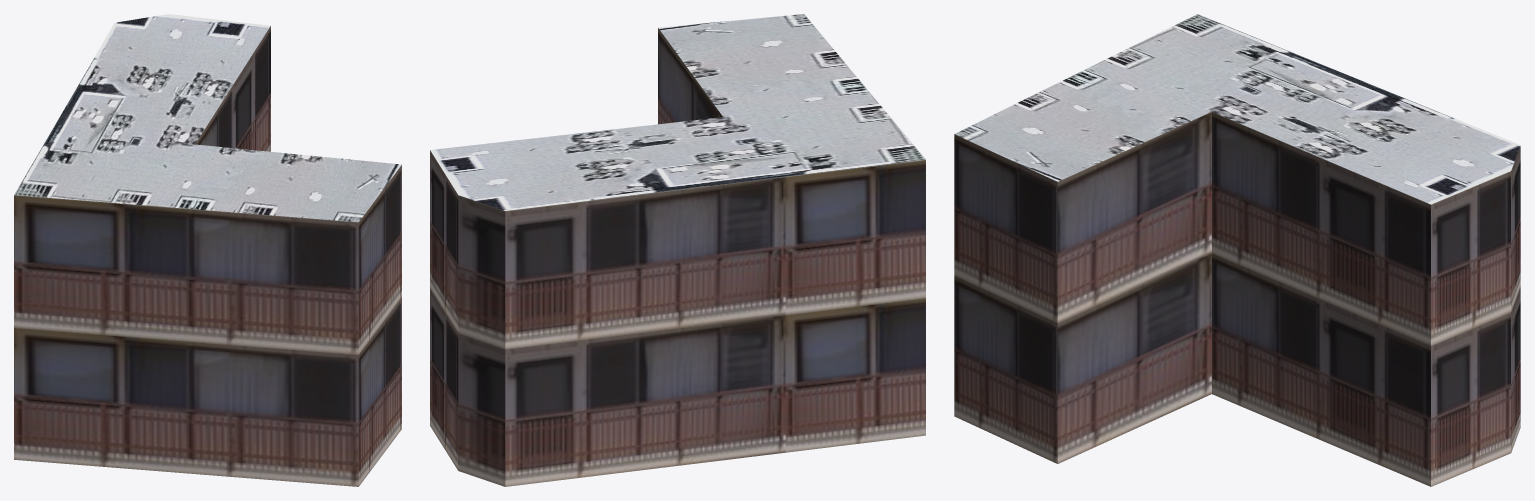
The model's file is ResTex__5060.fbx.
The picture shows the model from 3 angles, left to right: view 1: azimuth 30°, elevation 25°; view 2: azimuth 150°, elevation 25°; view 3: azimuth 270°, elevation 25°; orthographic projection. The views are drawn at different scales.
Visible parts, largest first — view 1: CityEngineMaterial_6_m, CityEngineMaterial_m; view 2: CityEngineMaterial_6_m, CityEngineMaterial_m; view 3: CityEngineMaterial_6_m, CityEngineMaterial_m.
Part boxes in pixels (bbox=[...]): CityEngineMaterial_6_m: bbox=[14, 26, 401, 486]; CityEngineMaterial_m: bbox=[14, 14, 401, 222]; CityEngineMaterial_6_m: bbox=[430, 28, 925, 486]; CityEngineMaterial_m: bbox=[430, 14, 925, 210]; CityEngineMaterial_6_m: bbox=[954, 112, 1520, 486]; CityEngineMaterial_m: bbox=[954, 14, 1520, 204].
Size of the model in its own units: 8.69 by 6 by 10.91.
Materials: 2 (2 with a texture image).
